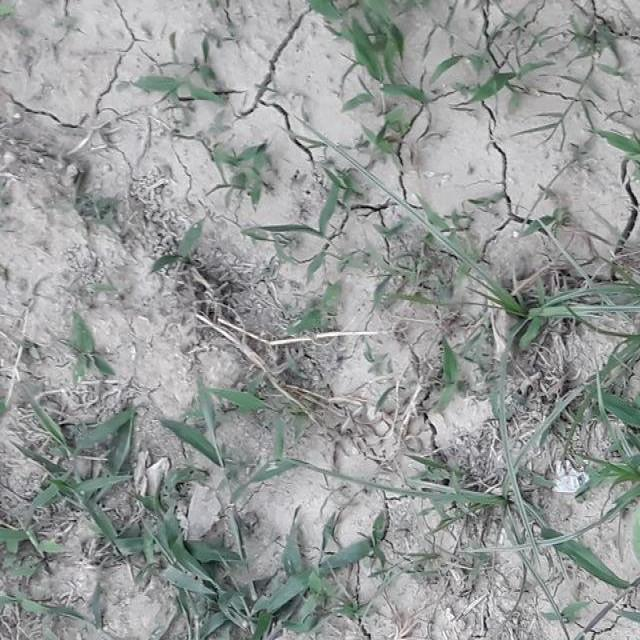weed: (391, 200, 640, 370), (152, 398, 294, 638), (403, 470, 625, 565), (316, 0, 442, 125), (29, 428, 143, 525), (116, 70, 242, 128), (273, 210, 355, 278)
